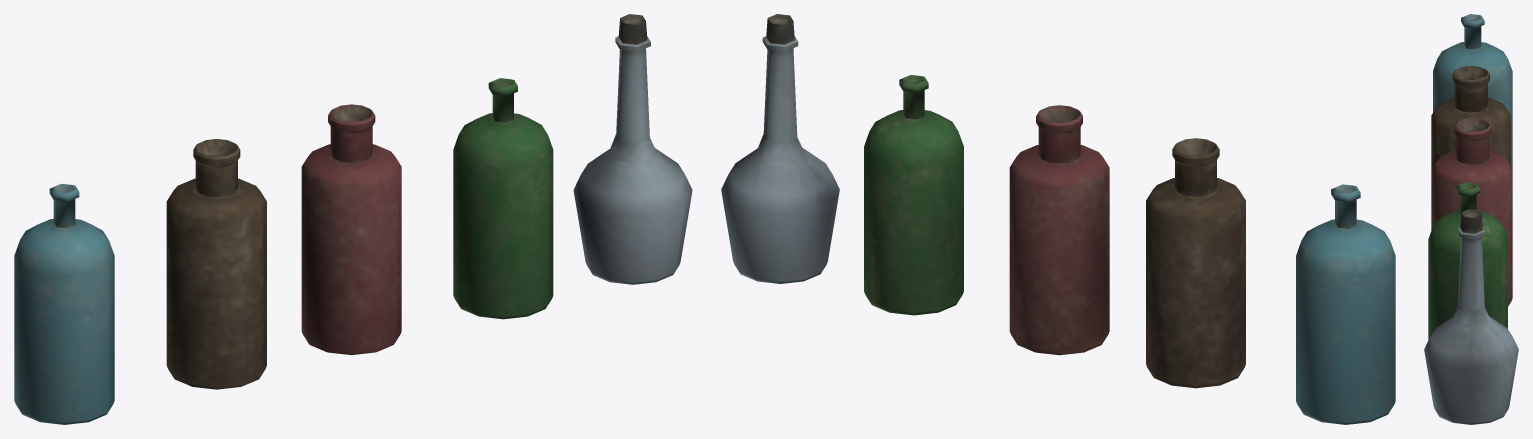
Rendered from GlassBottleSet.FBX.
3 renders of one model, left to right at view 1: azimuth 30°, elevation 25°; view 2: azimuth 150°, elevation 25°; view 3: azimuth 270°, elevation 25°, orthographic. The views are drawn at different scales.
Parts seen in each view (by area): view 1: GlassBottle_T02, GlassBottle_T03, GlassBottle_T01, GlassBottle_T04, GlassBottle_T05; view 2: GlassBottle_T03, GlassBottle_T02, GlassBottle_T01, GlassBottle_T04, GlassBottle_T05; view 3: GlassBottle_T05, GlassBottle_T04, GlassBottle_T03, GlassBottle_T02, GlassBottle_T01.
Part boxes in pixels (box(x1,y1,x2,y2)): GlassBottle_T02: box(166, 139, 266, 389); GlassBottle_T03: box(301, 104, 401, 355); GlassBottle_T01: box(14, 183, 114, 424); GlassBottle_T04: box(453, 78, 553, 319); GlassBottle_T05: box(573, 14, 692, 284); GlassBottle_T03: box(1009, 105, 1109, 355); GlassBottle_T02: box(1146, 138, 1245, 388); GlassBottle_T01: box(1296, 184, 1395, 424); GlassBottle_T04: box(864, 75, 963, 315); GlassBottle_T05: box(721, 14, 839, 283); GlassBottle_T05: box(1424, 209, 1518, 424); GlassBottle_T04: box(1428, 182, 1507, 339); GlassBottle_T03: box(1432, 118, 1512, 306); GlassBottle_T02: box(1431, 66, 1510, 230); GlassBottle_T01: box(1433, 14, 1512, 167).
Bounding box in the file's own units: 74.72 × 26.83 × 11.63.
